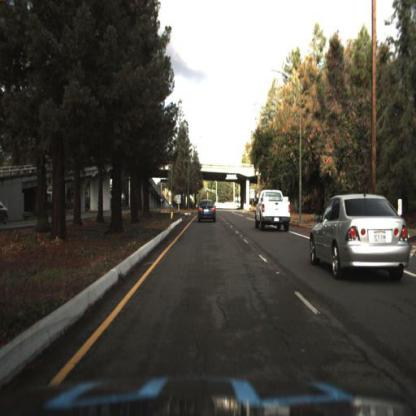car: (307, 192, 413, 280), (252, 180, 295, 240), (195, 193, 222, 229), (394, 183, 416, 203), (1, 203, 12, 227)
